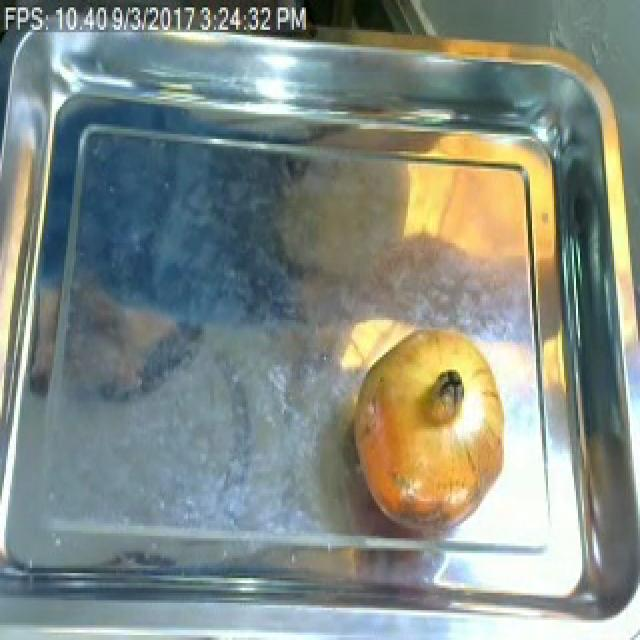fruit: (342, 318, 512, 543)
